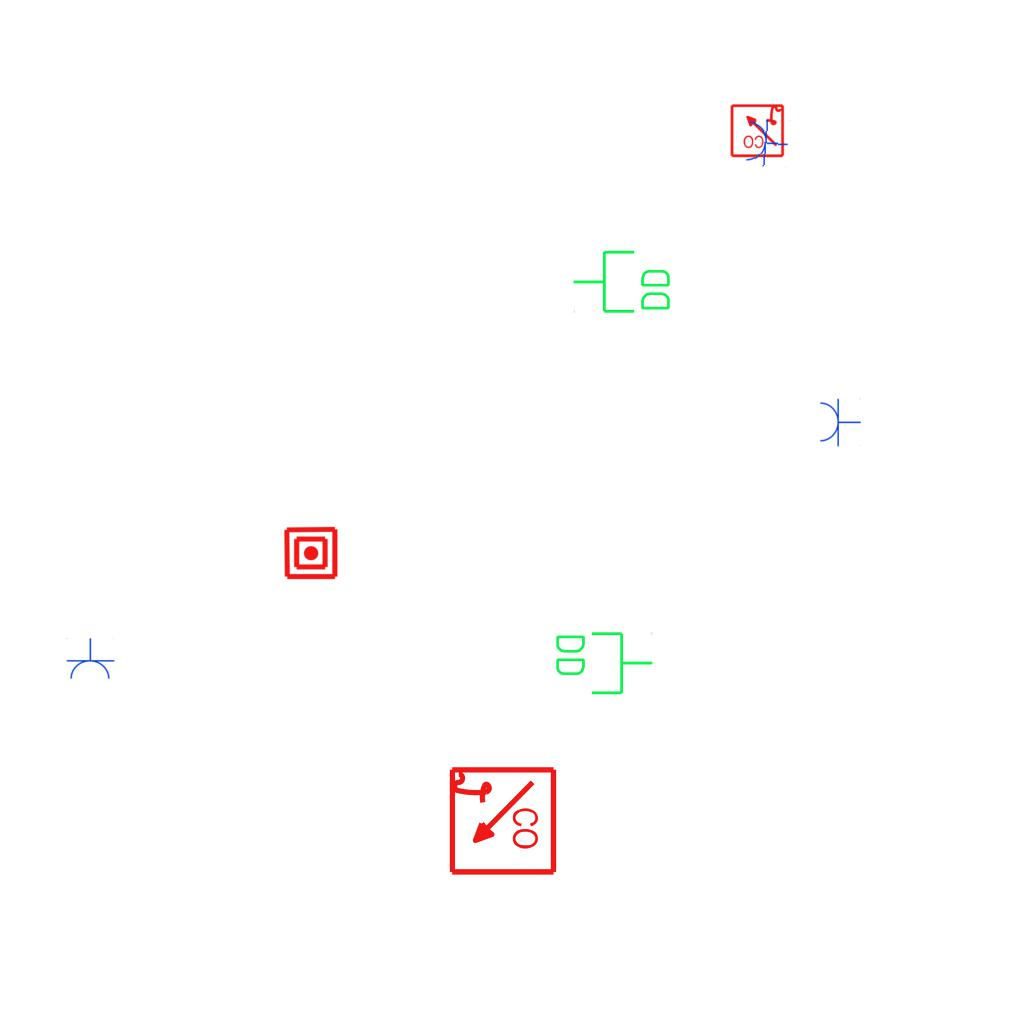Datenanschluss_zweifach: (552, 628, 655, 697), (571, 248, 674, 317)
NAM-Nichtautomatischer_Melder: (283, 525, 339, 581)
ROA_Rauchmelder_optisch_mit_Signalgeber_(Sockelsirene): (445, 765, 558, 878), (729, 102, 785, 158)
Schukosteckdose_einfach: (743, 115, 791, 170), (818, 397, 861, 447), (65, 638, 115, 681)
